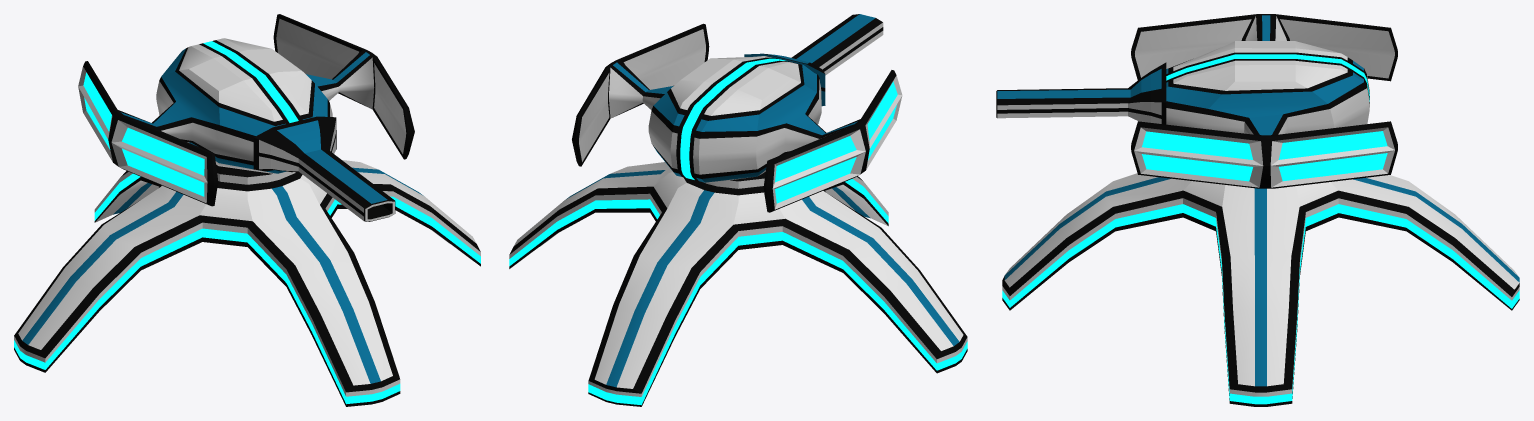
The model's file is турель без анимации.fbx.
The picture shows the model from 3 angles, left to right: view 1: azimuth 30°, elevation 25°; view 2: azimuth 150°, elevation 25°; view 3: azimuth 270°, elevation 25°; orthographic projection.
Visible parts, largest first — view 1: Цилиндр.001, tower, Куб.004; view 2: Цилиндр.001, tower, Куб.004; view 3: tower, Цилиндр.001, Куб.004.
Boxes of the visible parts, left/top/right/bottom form: Цилиндр.001: left=14, top=160, right=480, bottom=406; tower: left=78, top=14, right=414, bottom=206; Куб.004: left=253, top=116, right=395, bottom=221; Цилиндр.001: left=509, top=162, right=967, bottom=406; tower: left=572, top=23, right=902, bottom=212; Куб.004: left=744, top=14, right=883, bottom=106; tower: left=1131, top=14, right=1397, bottom=188; Цилиндр.001: left=1002, top=173, right=1519, bottom=406; Куб.004: left=996, top=62, right=1166, bottom=124.
Size of the model in its own units: 931 by 479 by 942.
